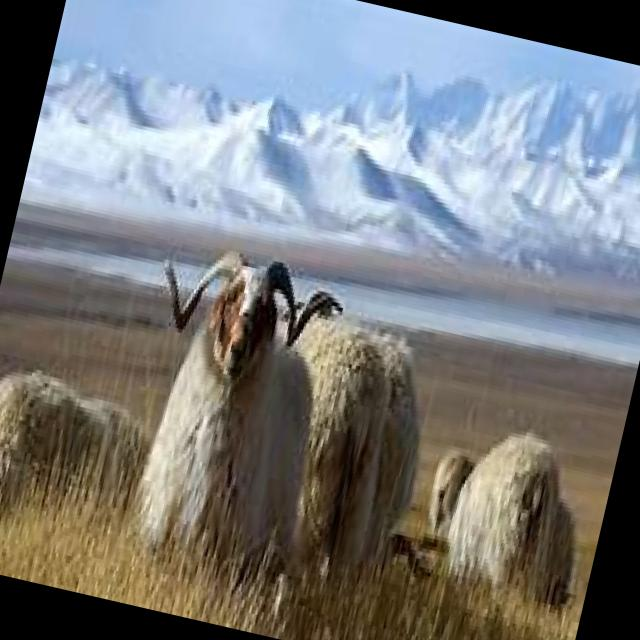animal: (102, 242, 345, 580)
